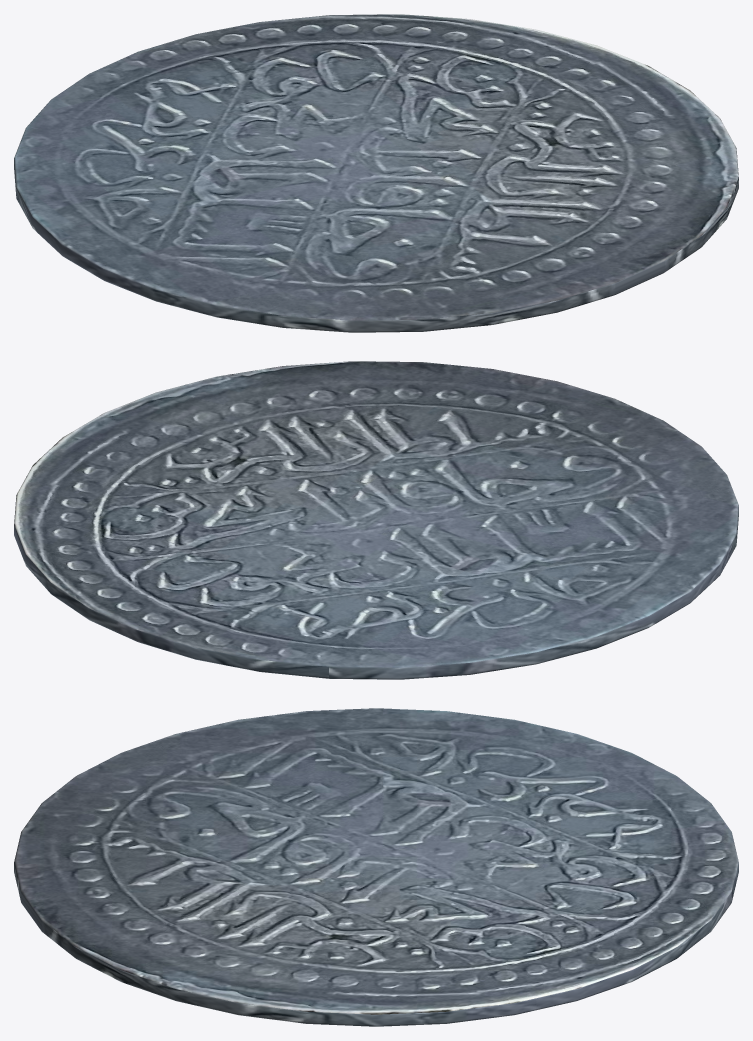
File: JUBA_COIN.glb
3 views of the same model, one above another, from view 1: azimuth 30°, elevation 25°; view 2: azimuth 150°, elevation 25°; view 3: azimuth 270°, elevation 25° (orthographic).
Parts seen in each view (by area): view 1: Cylinder; view 2: Cylinder; view 3: Cylinder.
Part boxes in pixels (x1,y1,x2,y2): Cylinder: (14,14,738,332); Cylinder: (14,361,738,679); Cylinder: (14,708,738,1026).
Size of the model in its own units: 2 by 0.0424 by 2.
Materials: 2 (2 with a texture image).
